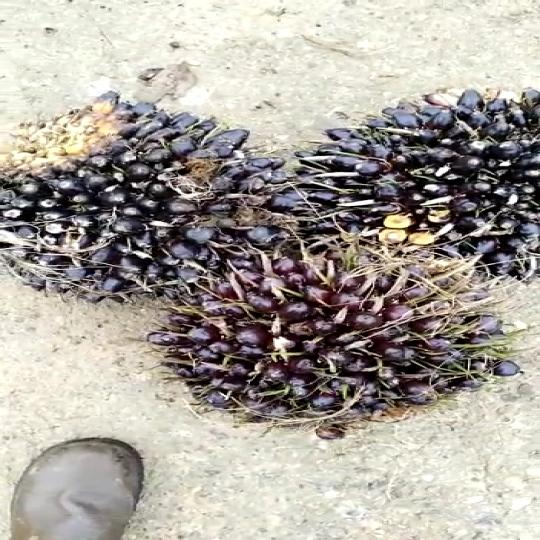mentah: (154, 223, 523, 436), (0, 90, 313, 299), (281, 80, 540, 272)
